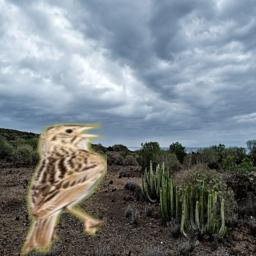Sparrow: (20, 122, 107, 256)
